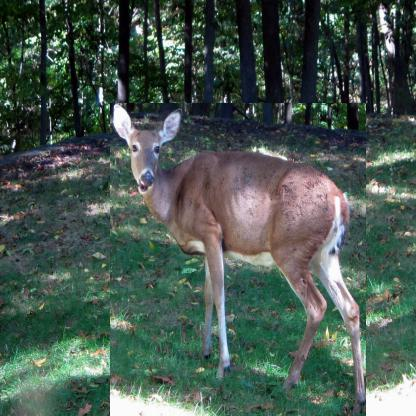Deer: (110, 103, 366, 416)
